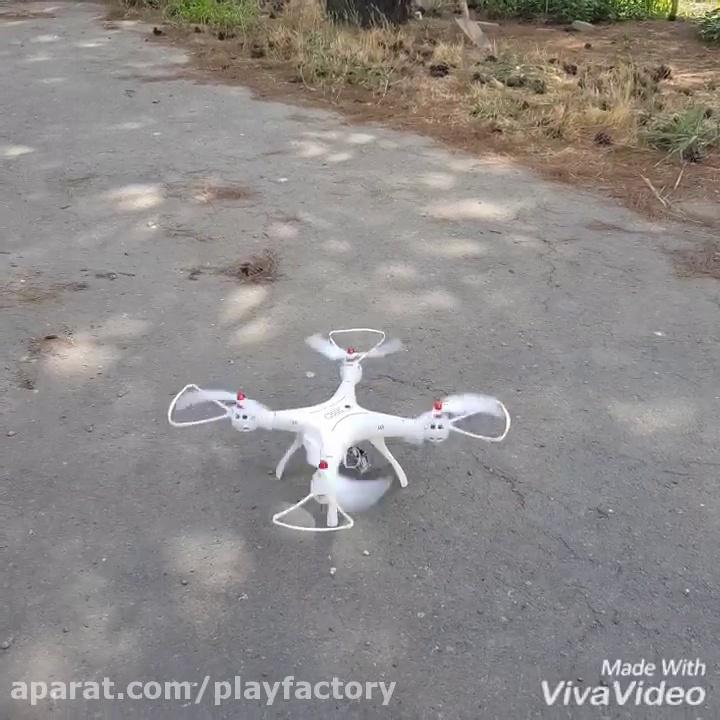drone: (164, 323, 514, 537)
